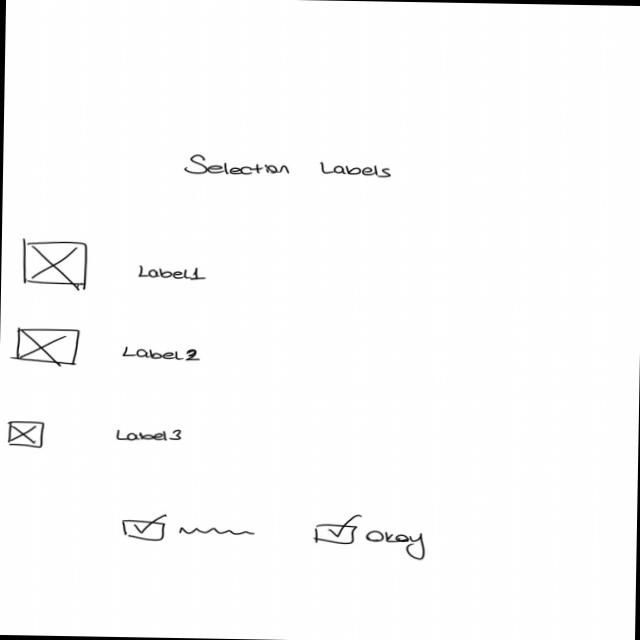checkbox: (311, 512, 428, 562), (120, 514, 256, 544)
image: (18, 240, 90, 290), (14, 325, 81, 366), (3, 418, 47, 451)
label: (182, 152, 394, 180), (120, 344, 203, 363), (134, 263, 209, 282), (113, 424, 183, 442)
